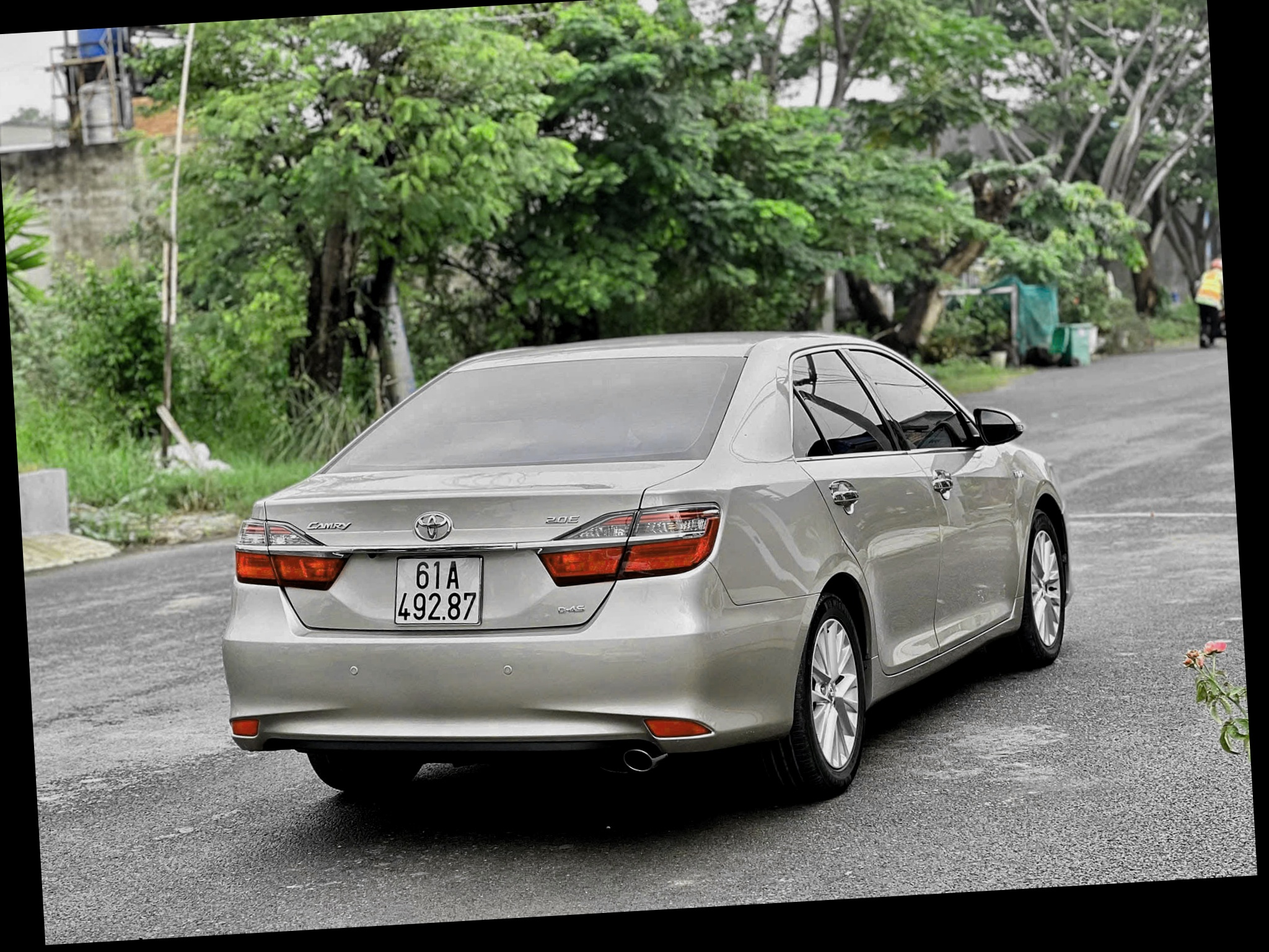Bien-so: (375, 603, 479, 683)
